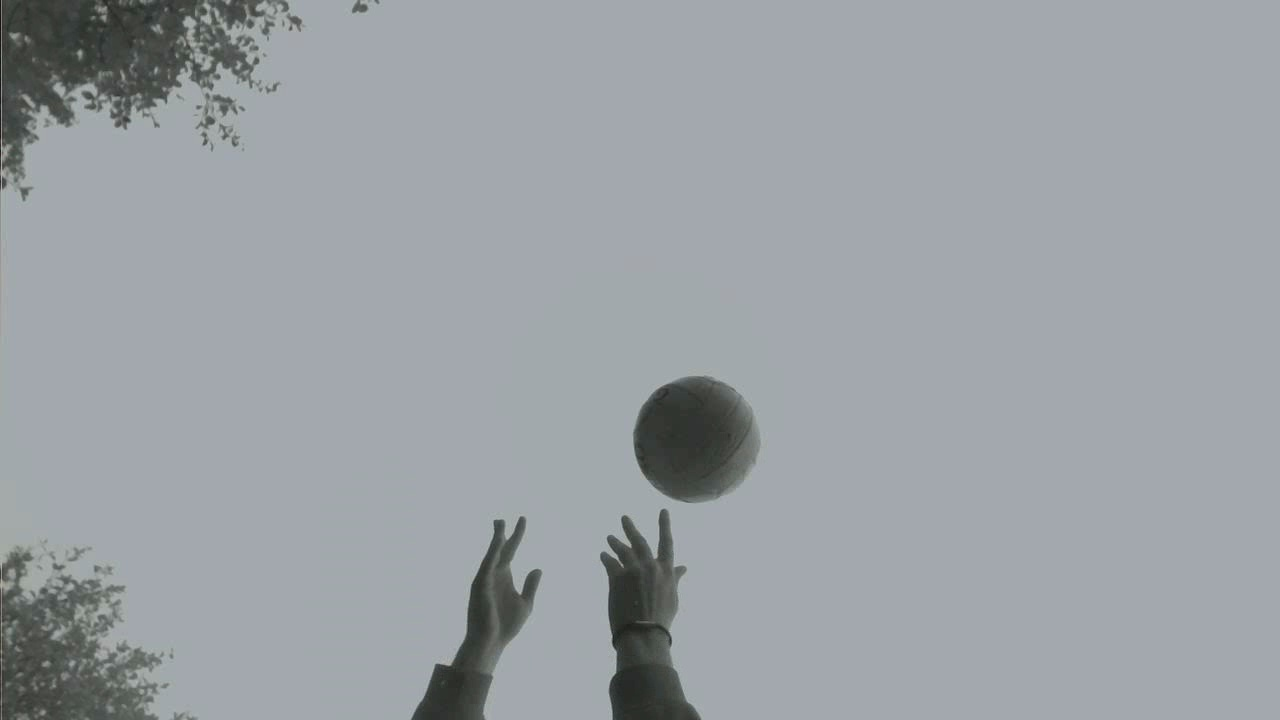Football-Spotter: (634, 376, 759, 502)
